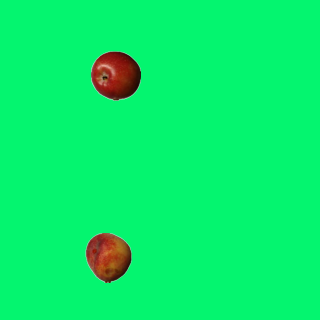Apple Braeburn: (90, 50, 140, 100)
Peach: (83, 232, 133, 282)
